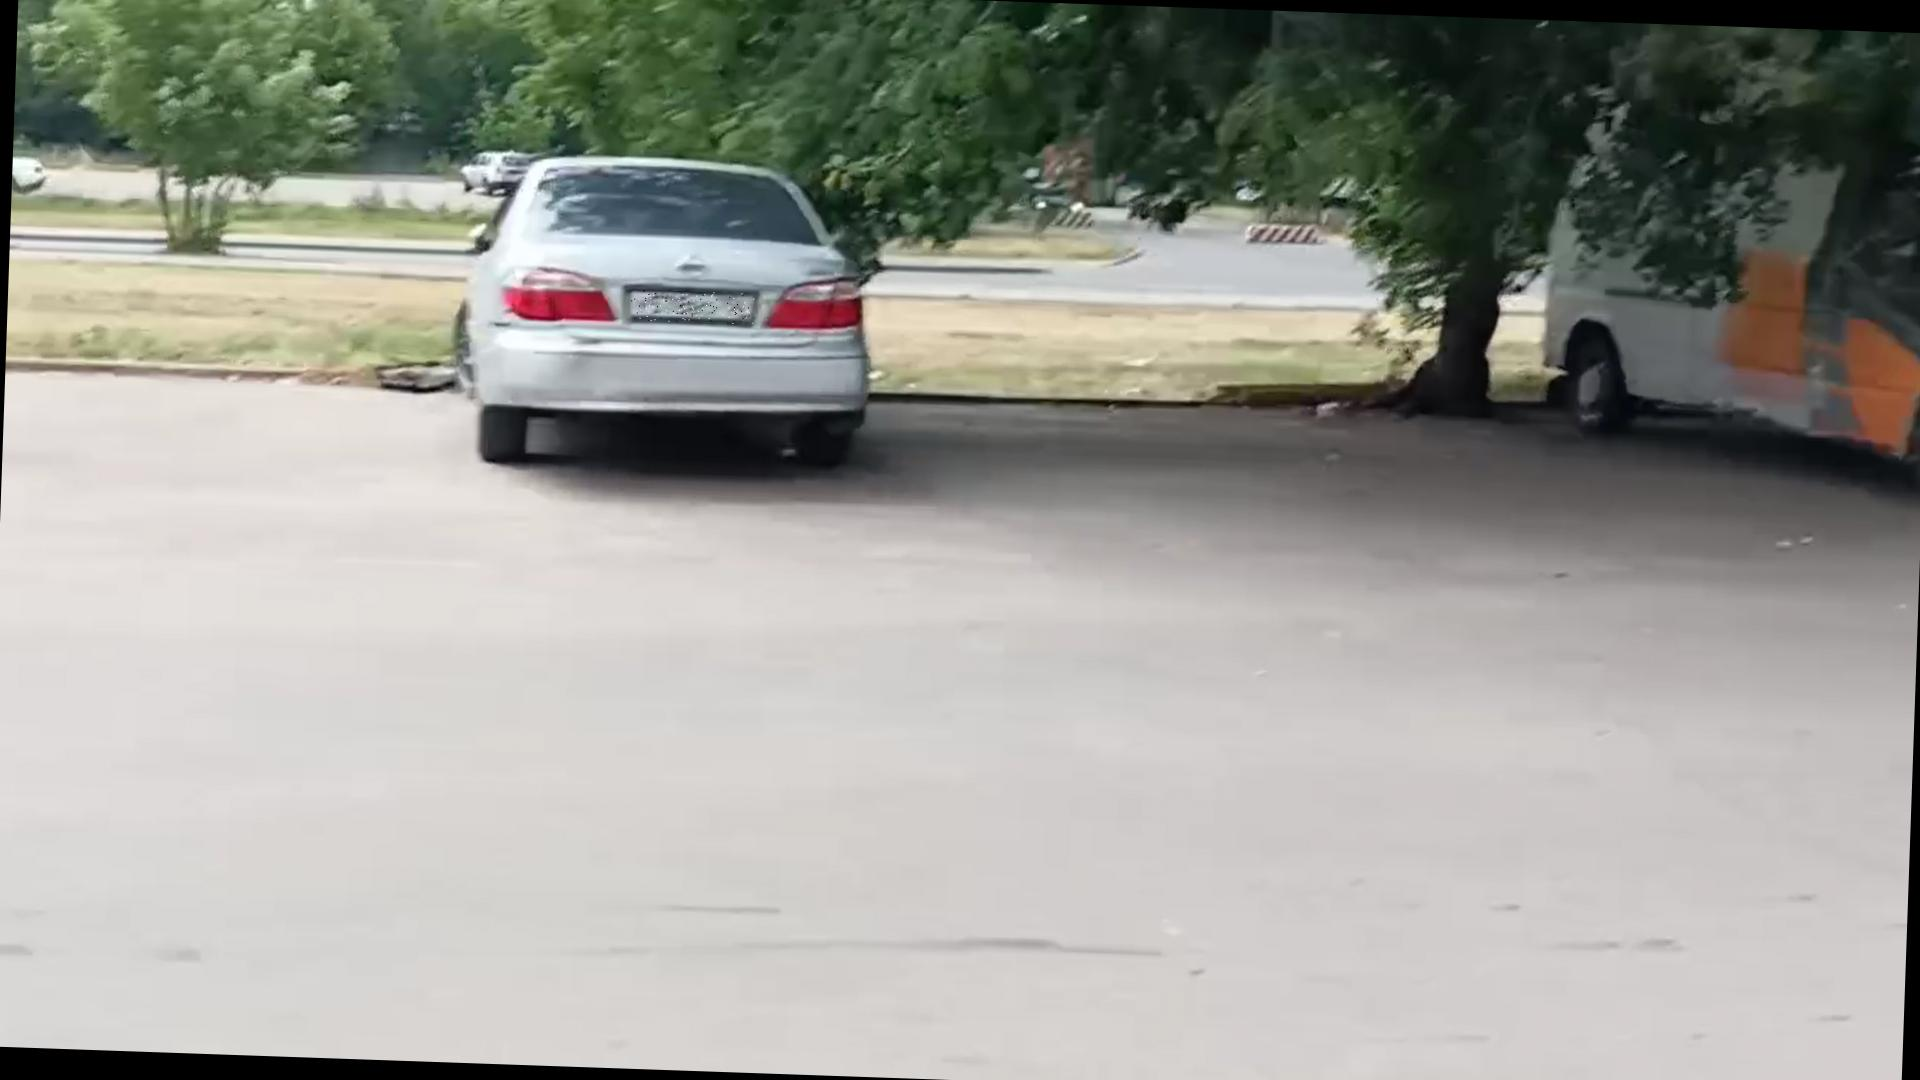plate: (632, 291, 756, 326)
